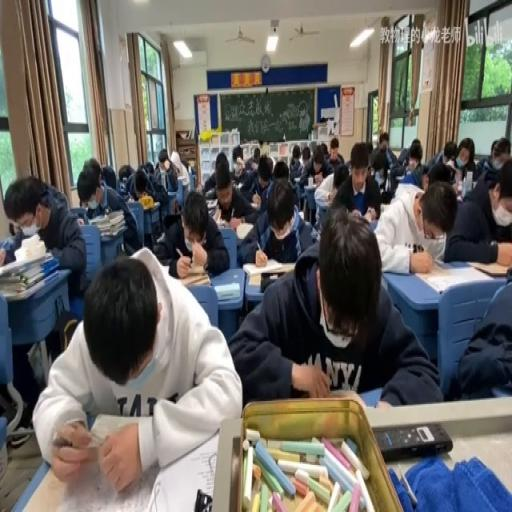calculator: (149, 428, 222, 511), (410, 259, 497, 294), (242, 257, 291, 276), (178, 269, 211, 287), (214, 282, 240, 300), (99, 220, 126, 234), (234, 222, 254, 240), (430, 256, 454, 270), (166, 190, 178, 212), (303, 182, 317, 196), (88, 213, 104, 225), (204, 196, 218, 209), (212, 205, 222, 223), (248, 272, 262, 284), (205, 188, 216, 200), (147, 199, 160, 209), (295, 209, 305, 222), (295, 180, 304, 194), (379, 202, 390, 213), (122, 194, 134, 204), (177, 174, 187, 184), (314, 174, 322, 184), (248, 202, 258, 209), (394, 174, 404, 179)
paper: (36, 247, 241, 488), (232, 209, 438, 410), (2, 172, 86, 306), (374, 178, 458, 273), (155, 186, 229, 279), (78, 156, 140, 260), (333, 141, 382, 222), (298, 142, 334, 189), (237, 151, 268, 205), (204, 146, 237, 194), (475, 138, 510, 181), (153, 146, 181, 194), (394, 138, 422, 186), (425, 158, 453, 188), (0, 228, 22, 263), (378, 134, 397, 166), (326, 135, 345, 165), (288, 144, 302, 180), (116, 162, 134, 188), (101, 162, 117, 189), (456, 142, 472, 169), (441, 142, 456, 165), (272, 159, 289, 179), (363, 141, 373, 168), (140, 160, 154, 178), (232, 145, 242, 166), (180, 155, 190, 174), (259, 141, 270, 158), (135, 179, 146, 196), (319, 141, 328, 158), (302, 149, 310, 162), (410, 145, 418, 157), (253, 148, 259, 162)
person: (374, 422, 451, 461), (193, 488, 212, 509)
